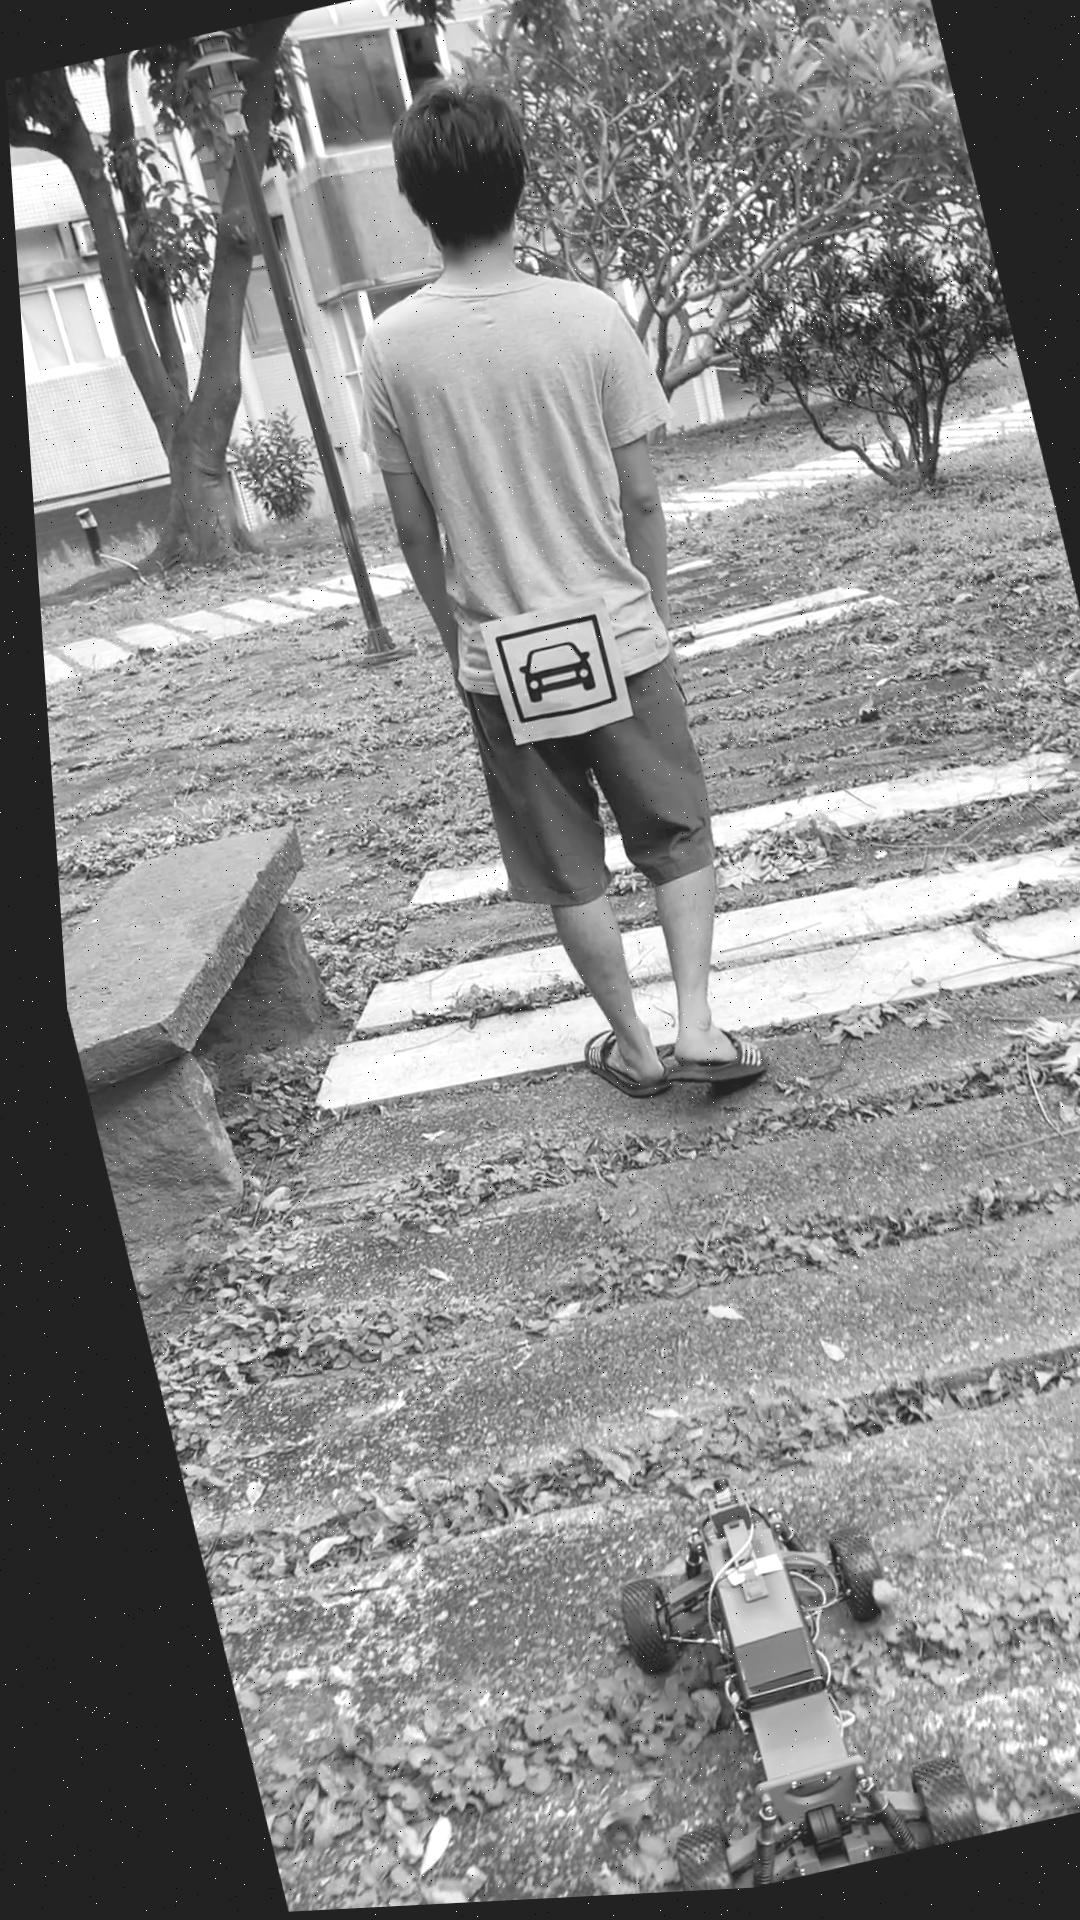car_img: (484, 617, 611, 733)
